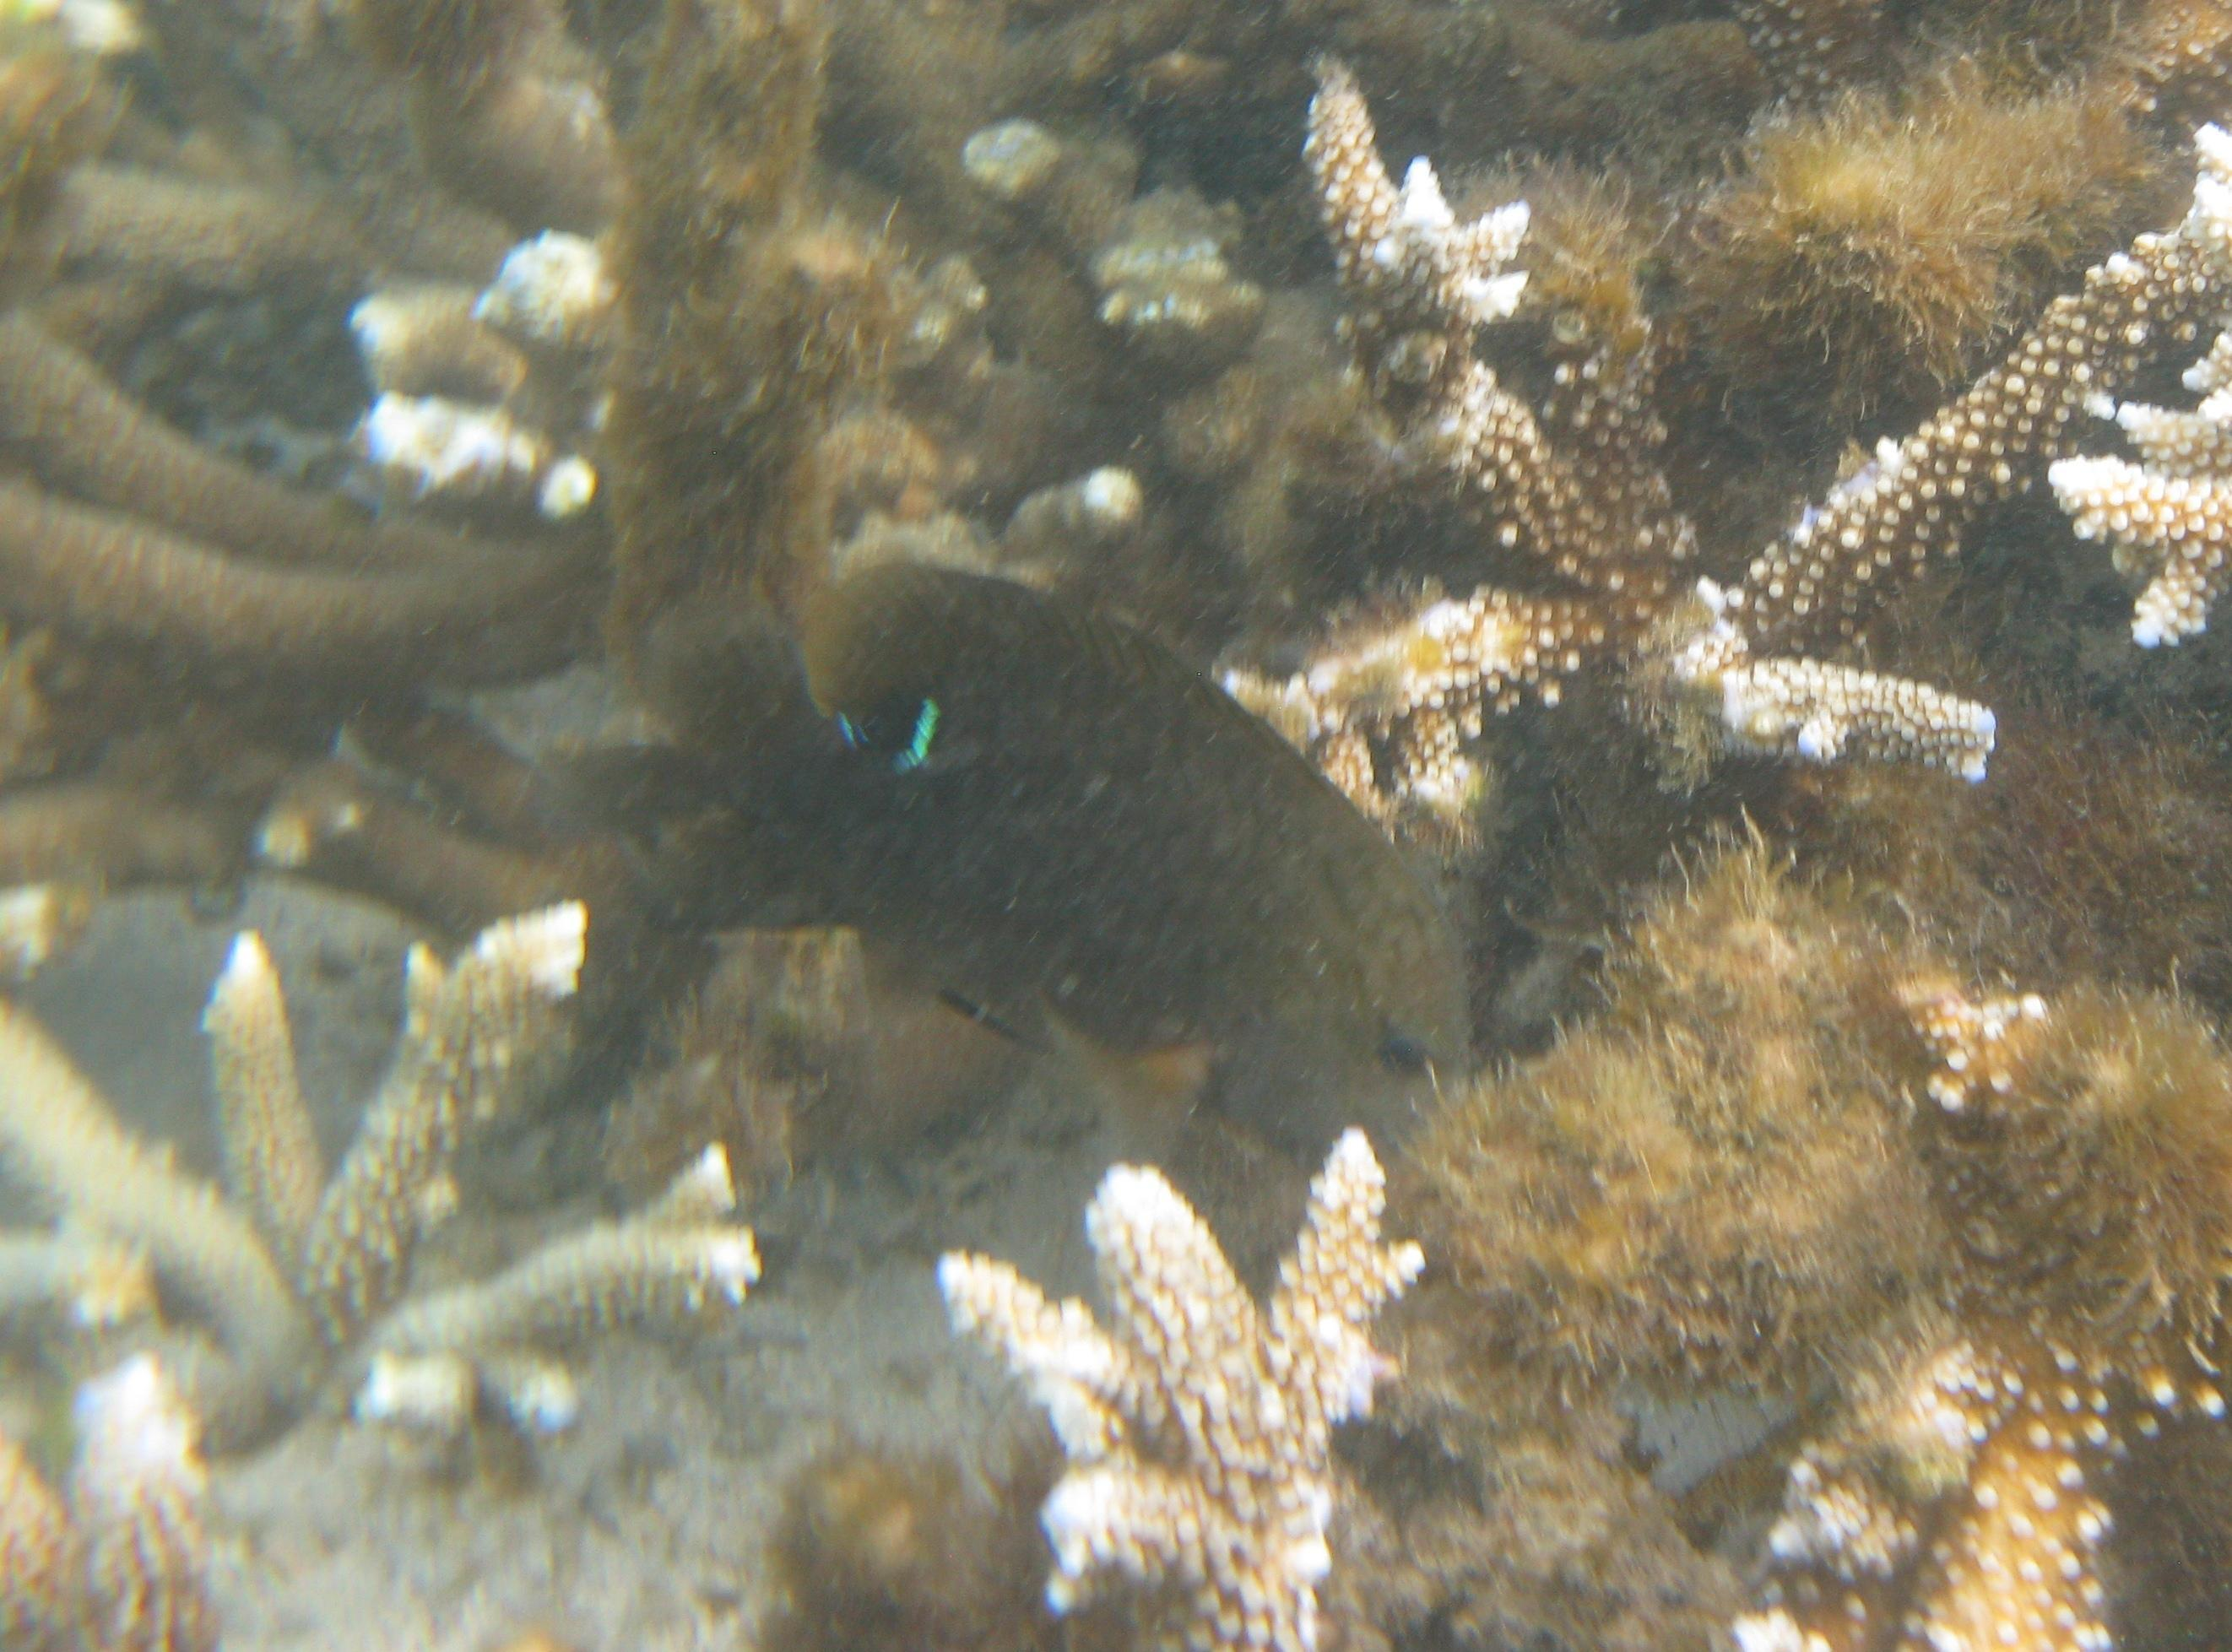Fish: (693, 505, 1572, 1295)
